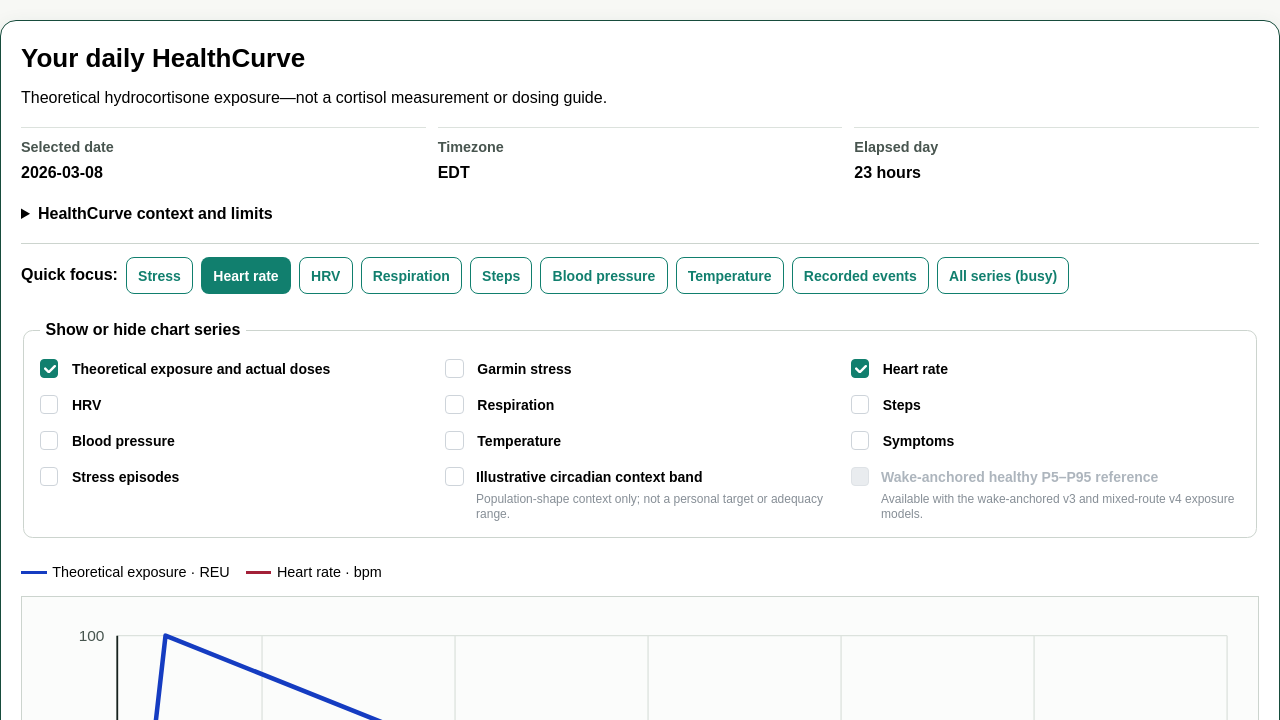
Scenario: Daily HealthCurve › explains when selected hourly Steps have no observed samples
Click the button "Steps" at (501, 276), box [470, 257, 532, 294]
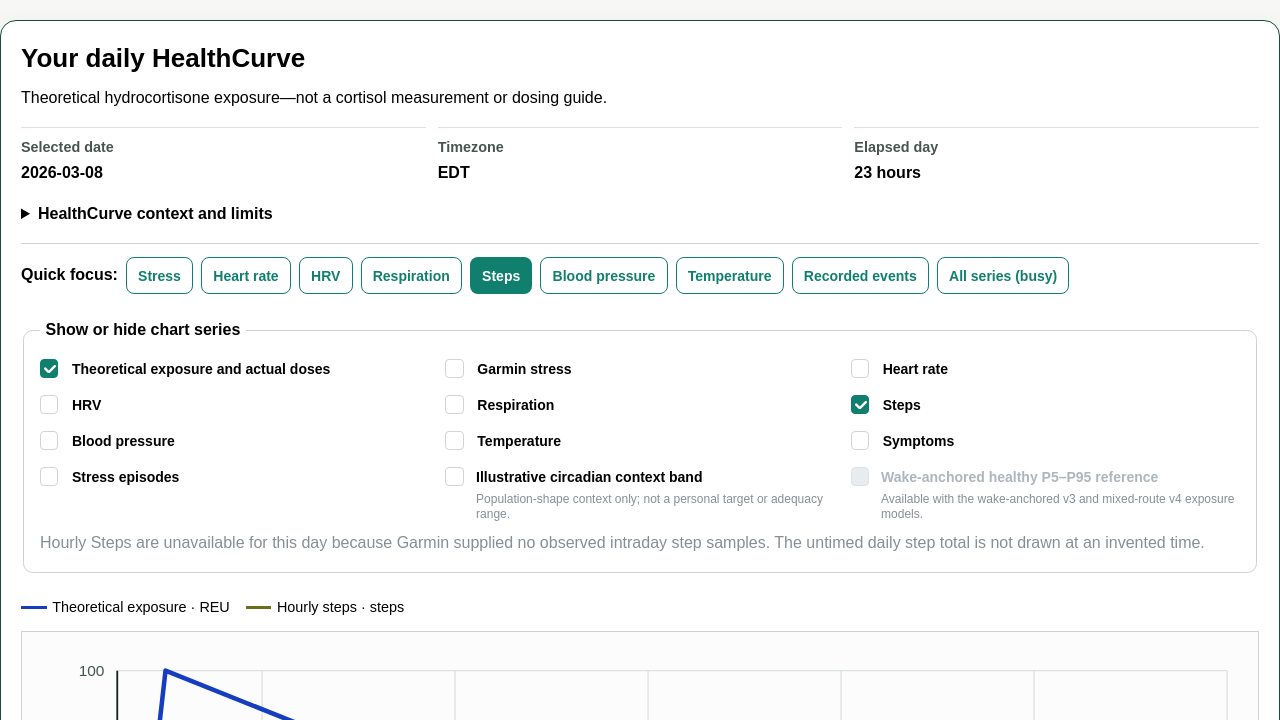
Now the text "Garmin supplied no observed intraday step samples" is shown, box [40, 534, 1205, 551]
